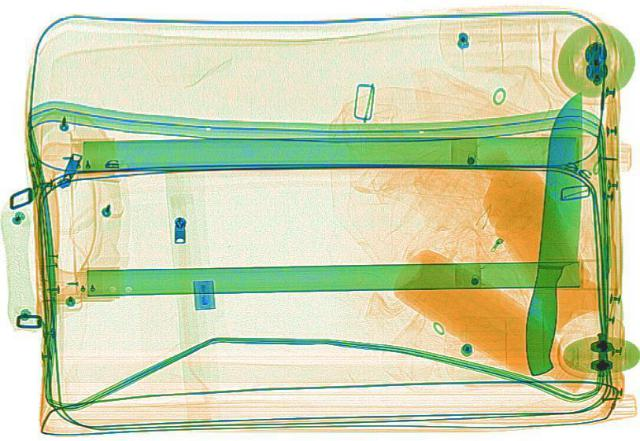Knife: (518, 90, 596, 375)
